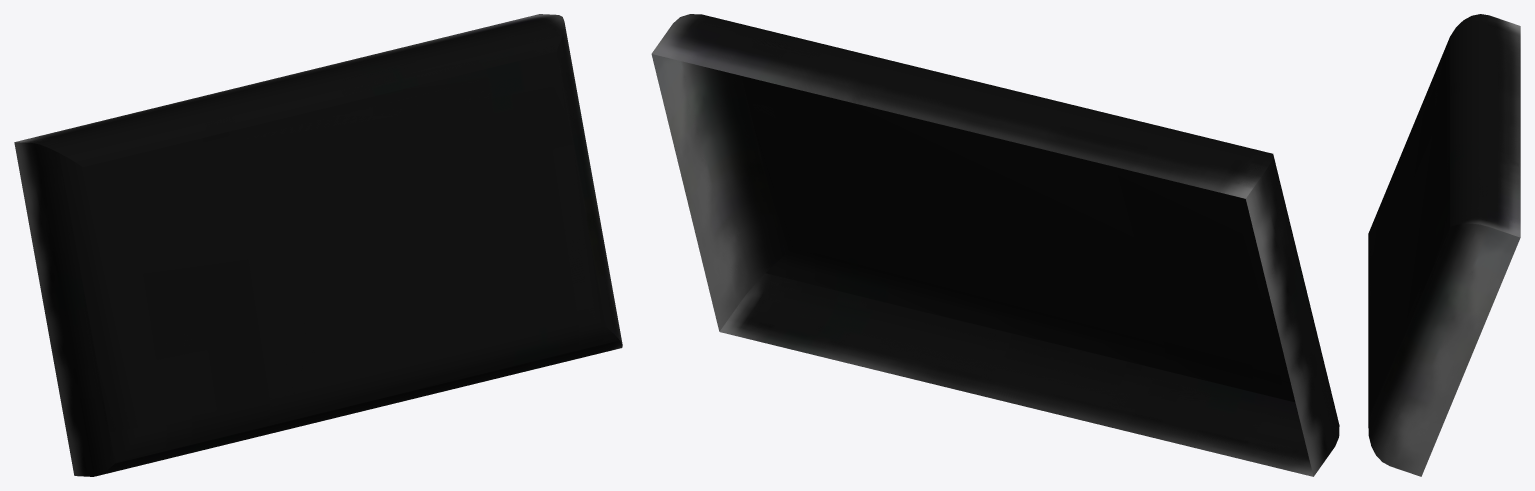
Rendered from link_2__button-3.glb.
The picture shows the model from 3 angles, left to right: view 1: azimuth 30°, elevation 25°; view 2: azimuth 150°, elevation 25°; view 3: azimuth 270°, elevation 25°; orthographic projection. The views are drawn at different scales.
Parts seen in each view (by area): view 1: geometry_0; view 2: geometry_0; view 3: geometry_0.
Part boxes in pixels (x1,y1,x2,y2): geometry_0: (14,14,622,476); geometry_0: (651,14,1339,476); geometry_0: (1368,14,1520,476).
Size of the model in its own units: 0.0354 by 0.0197 by 0.0108.
Materials: 1 (1 with a texture image).
